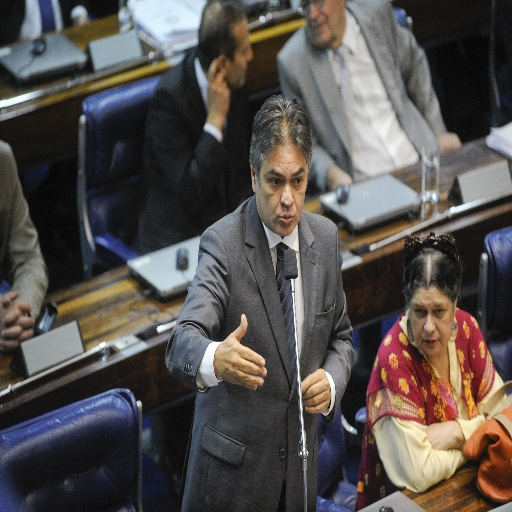hand: (212, 312, 265, 393), (0, 290, 35, 354), (298, 367, 331, 415), (206, 57, 231, 118), (0, 293, 22, 351), (426, 422, 451, 451), (437, 131, 461, 150), (330, 172, 351, 192)
